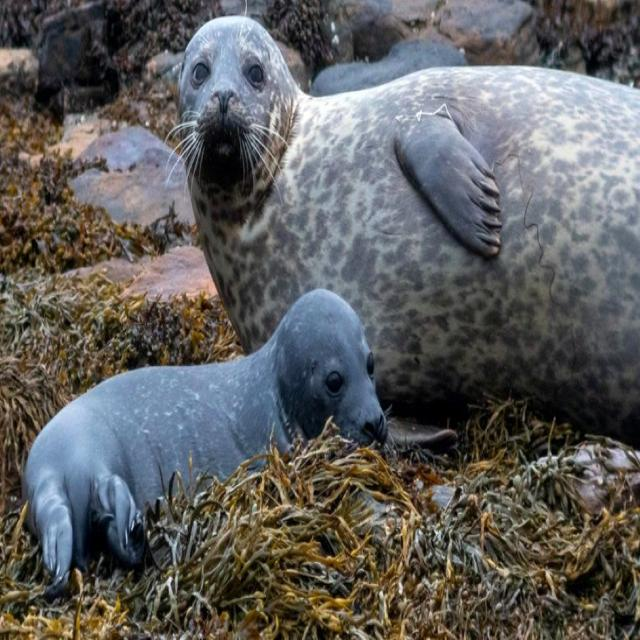seal: (172, 16, 640, 441), (23, 289, 388, 596)
